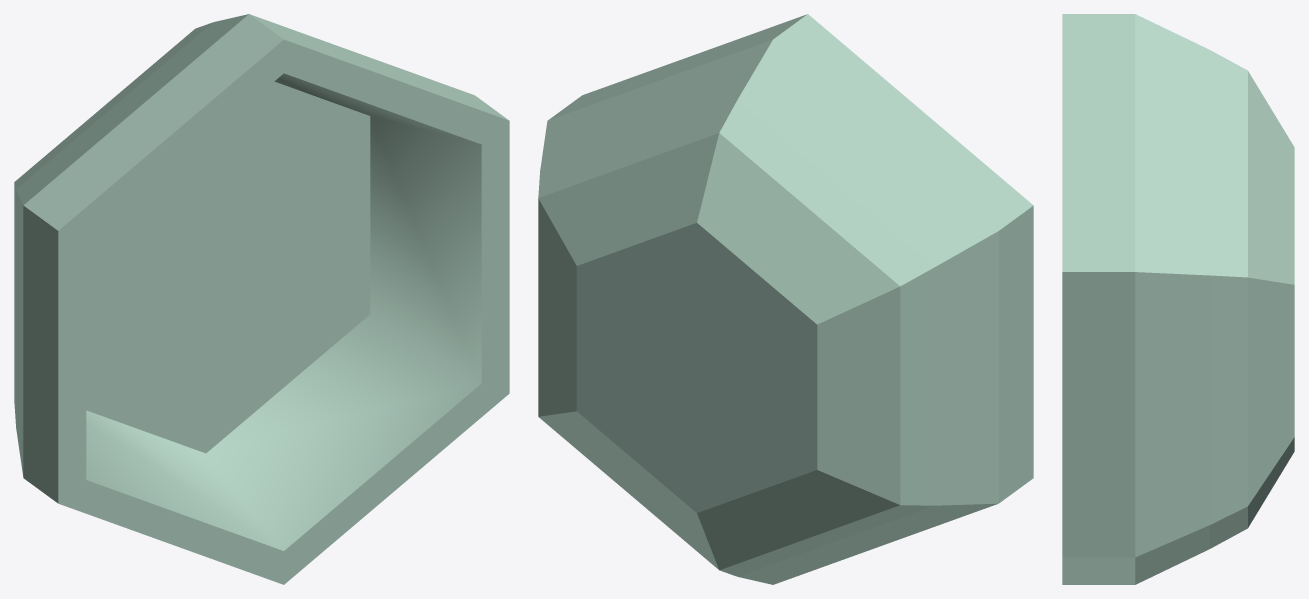
File: mediumbowl_visual.obj
The picture shows the model from 3 angles, left to right: view 1: azimuth 30°, elevation 25°; view 2: azimuth 150°, elevation 25°; view 3: azimuth 270°, elevation 25°; orthographic projection. The views are drawn at different scales.
Parts seen in each view (by area): view 1: mediumBowl10_ID5.035; view 2: mediumBowl10_ID5.035; view 3: mediumBowl10_ID5.035.
Boxes of the visible parts, x1,y1,x2,y2 form: mediumBowl10_ID5.035: [14, 14, 509, 584]; mediumBowl10_ID5.035: [538, 14, 1033, 584]; mediumBowl10_ID5.035: [1062, 14, 1294, 584].
Size of the model in its own units: 0.2511 by 0.2899 by 0.1069.
